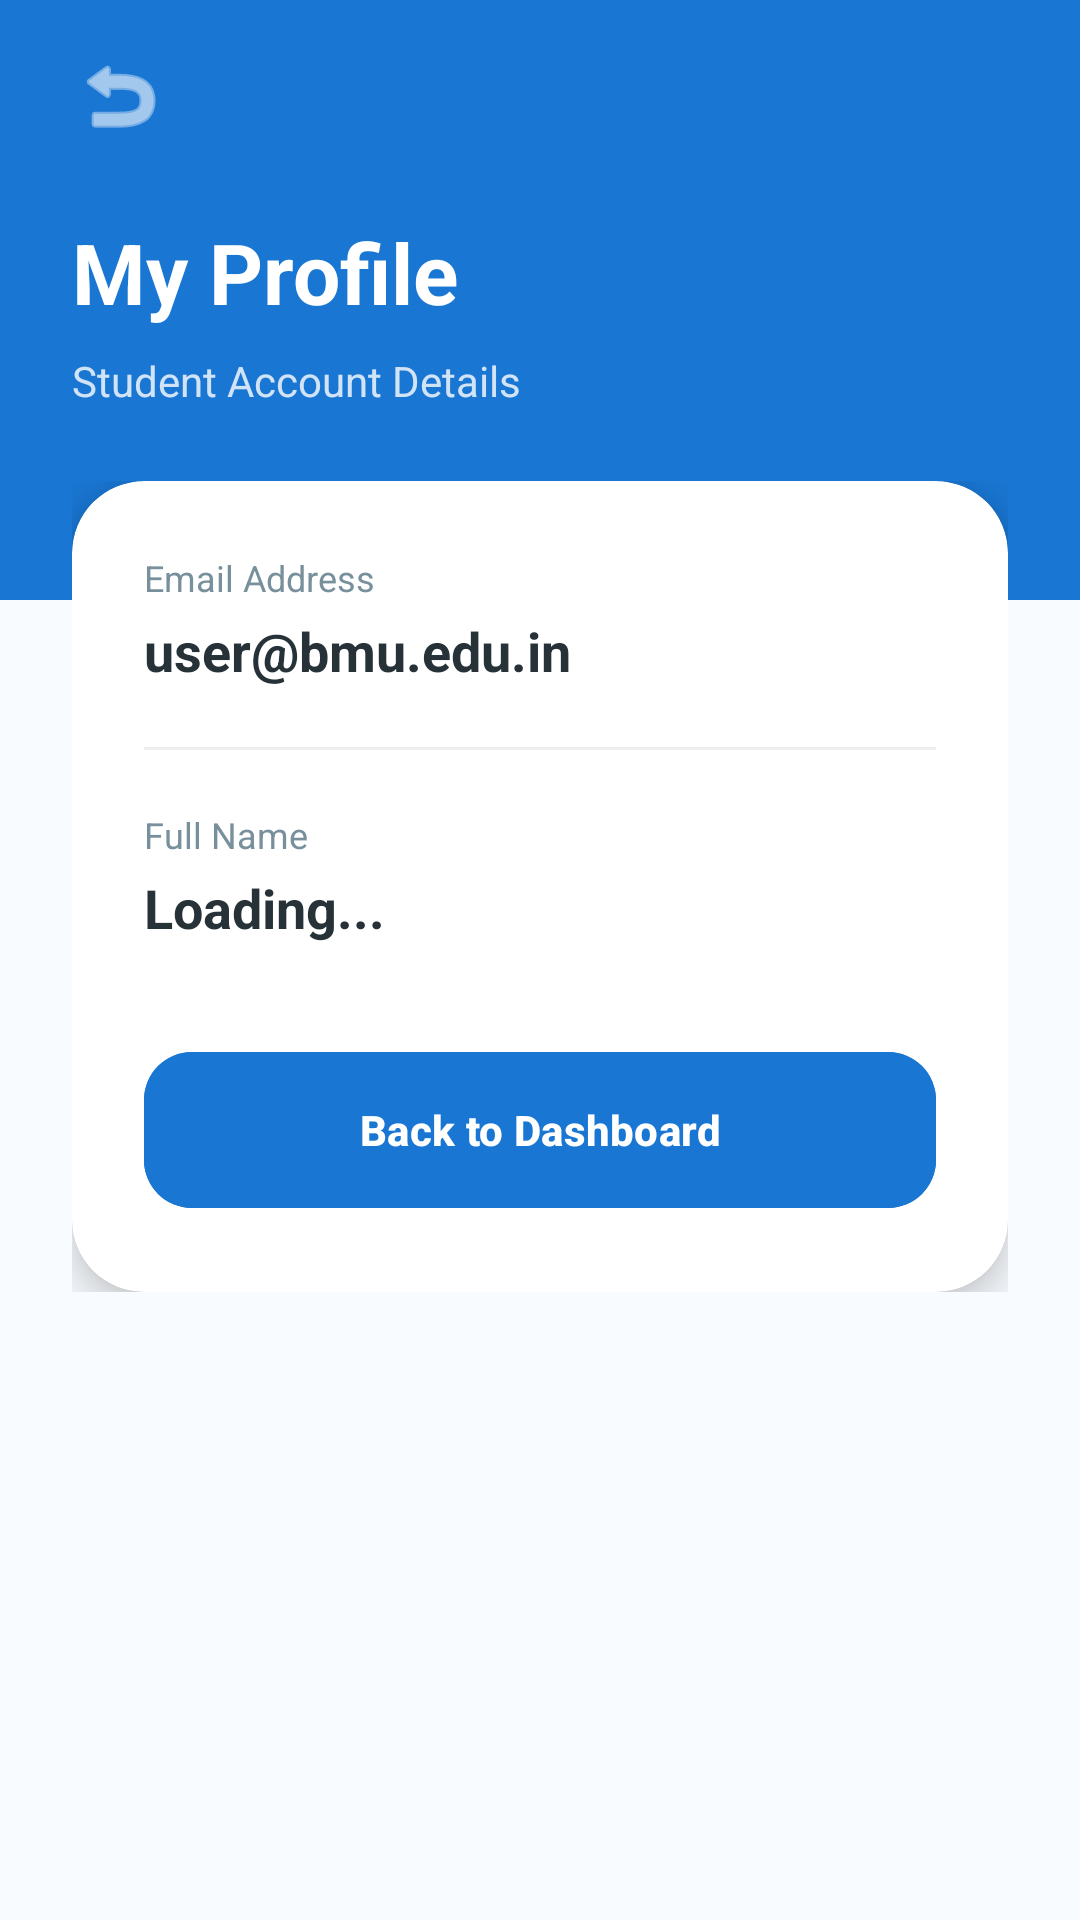

Locate icon controls on the screen. Image size 1080x1920, boxes as (x1, y1, x2, y2).
Back: (87, 65, 156, 128)
